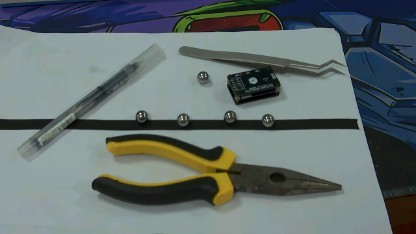ironball: (173, 110, 190, 127), (133, 107, 151, 120), (219, 110, 235, 123), (195, 69, 210, 82), (261, 112, 274, 126)
